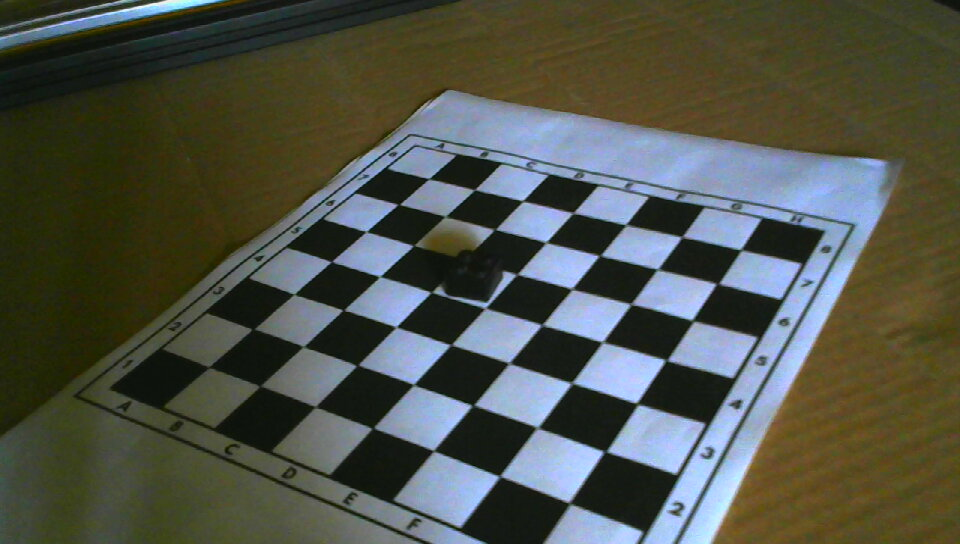bp: (444, 248, 504, 302)
